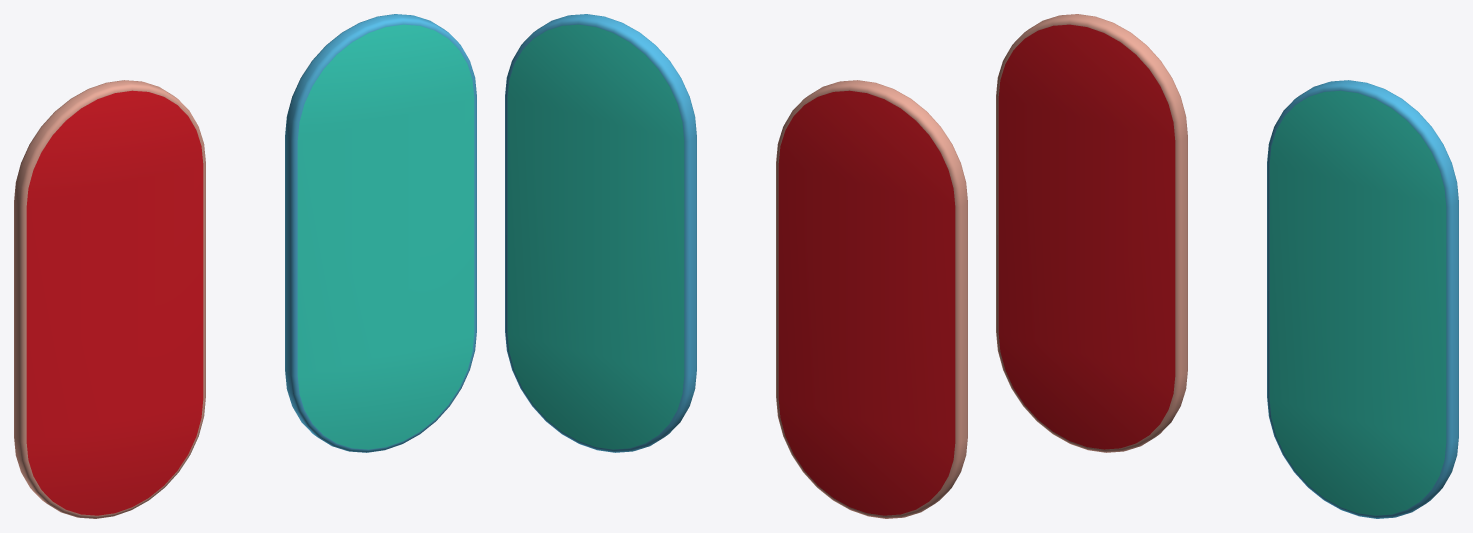
File: pleister.glb
3 views of the same model, side by side, from view 1: azimuth 30°, elevation 25°; view 2: azimuth 150°, elevation 25°; view 3: azimuth 330°, elevation 25° (orthographic).
Visible parts, largest first — view 1: Circle.003, Circle.002; view 2: Circle.003, Circle.002; view 3: Circle.003, Circle.002.
Part boxes in pixels (<box>): Circle.003: <box>285,14,476,452</box>; Circle.002: <box>14,80,205,518</box>; Circle.003: <box>505,14,696,452</box>; Circle.002: <box>776,80,967,518</box>; Circle.003: <box>1267,80,1458,518</box>; Circle.002: <box>996,14,1187,452</box>.
Bounding box in the file's own units: 4.92 × 4.42 × 0.187.
